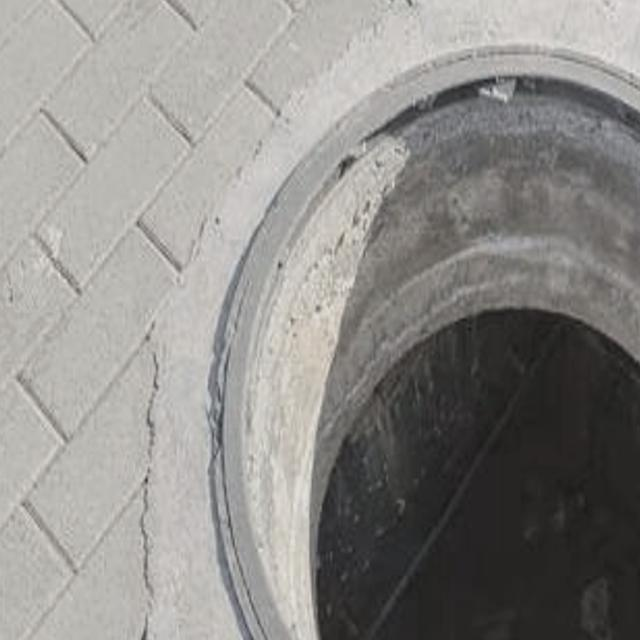lose: (162, 0, 640, 640)
